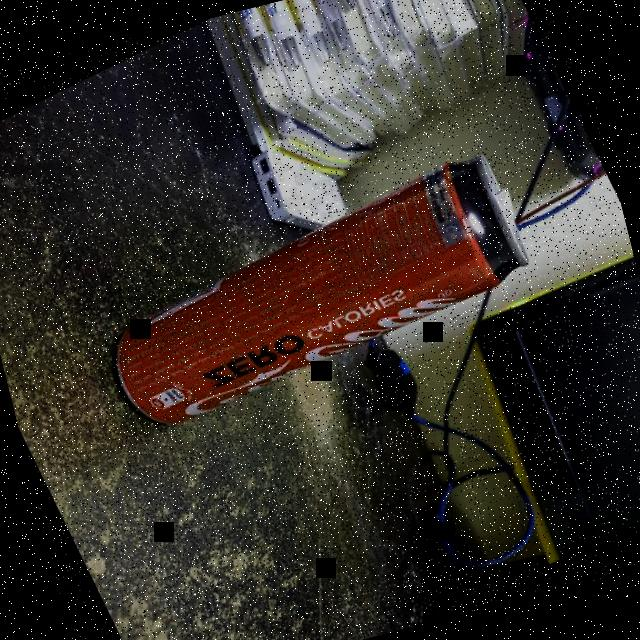can: (78, 140, 556, 444)
